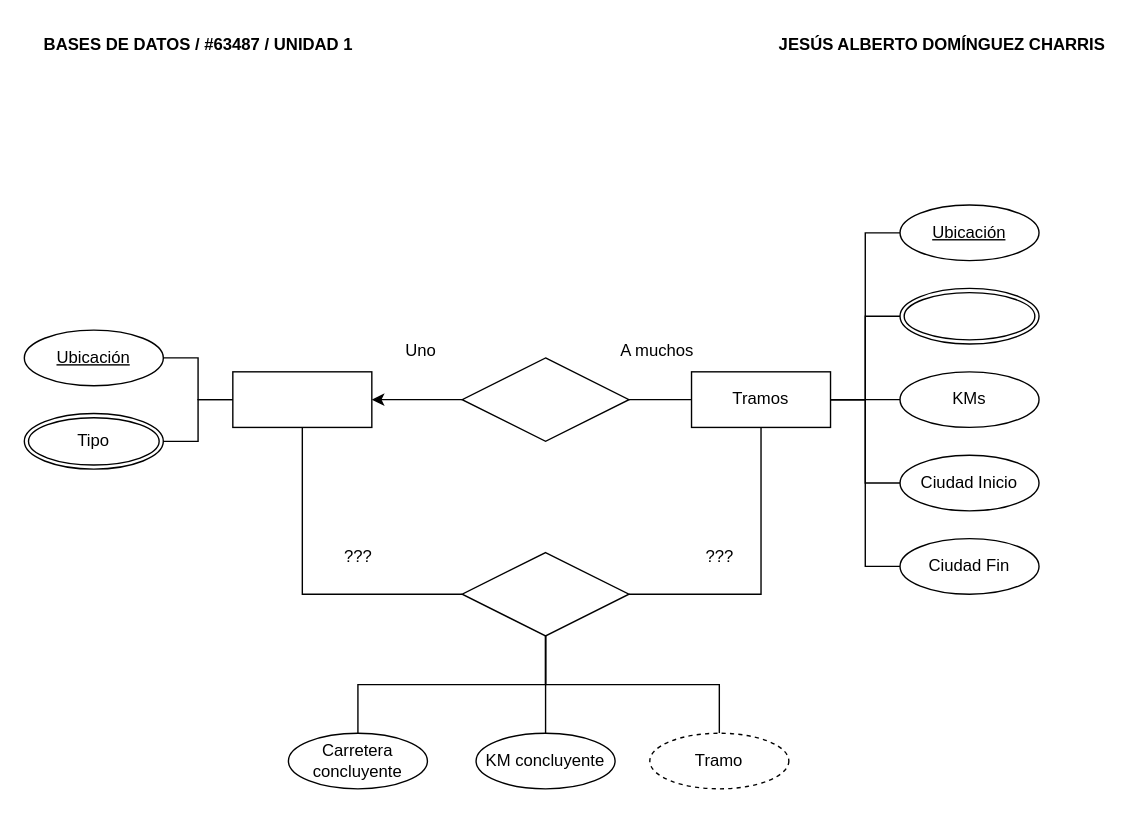
The diagram is 1147 pixels wide and 813 high, and some of its shapes have lost their labels. Each missing label, with the box of its shape:
Carreteras: (231, 370, 372, 427)
Ciudades: (899, 287, 1039, 344)
Confluencia: (461, 551, 629, 636)
Se divide: (461, 357, 629, 441)
